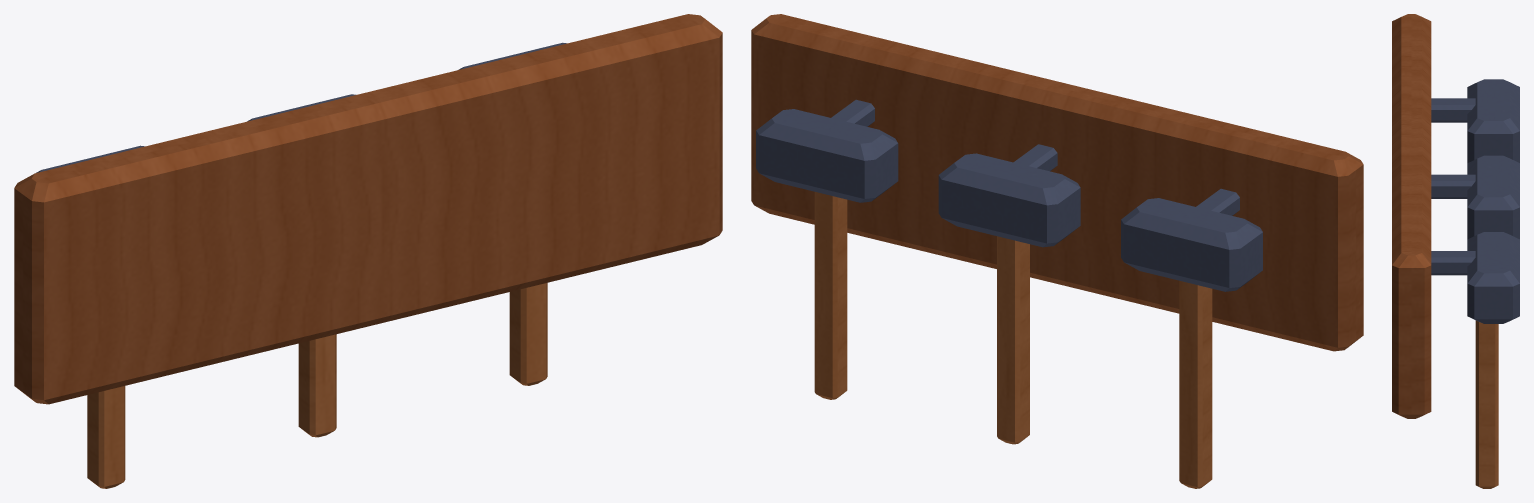
Rendered from Prop_ToolRack.obj.
3 views of the same model, side by side, from view 1: azimuth 30°, elevation 25°; view 2: azimuth 150°, elevation 25°; view 3: azimuth 270°, elevation 25° (orthographic). The views are drawn at different scales.
Parts seen in each view (by area): view 1: Backboard, Tool_handle, Hammer_head; view 2: Backboard, Hammer_head, Tool_handle, Hook; view 3: Backboard, Hammer_head, Tool_handle, Hook.
Boxes of the visible parts, bbox=[...] form: Backboard: bbox=[14, 14, 722, 404]; Tool_handle: bbox=[87, 283, 547, 488]; Hammer_head: bbox=[36, 42, 566, 172]; Backboard: bbox=[751, 14, 1363, 351]; Hammer_head: bbox=[756, 109, 1262, 291]; Tool_handle: bbox=[814, 192, 1212, 488]; Hook: bbox=[831, 99, 1239, 215]; Backboard: bbox=[1392, 14, 1431, 418]; Hammer_head: bbox=[1467, 79, 1519, 323]; Tool_handle: bbox=[1475, 320, 1498, 488]; Hook: bbox=[1431, 98, 1475, 275].
Bounding box in the file's own units: 1.8 × 0.925 × 0.39.
3 materials, 3 textured.
